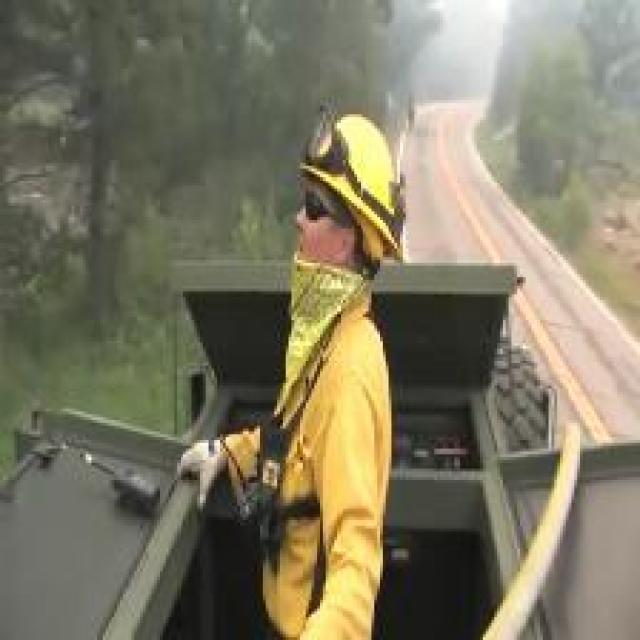other: (254, 89, 450, 630)
